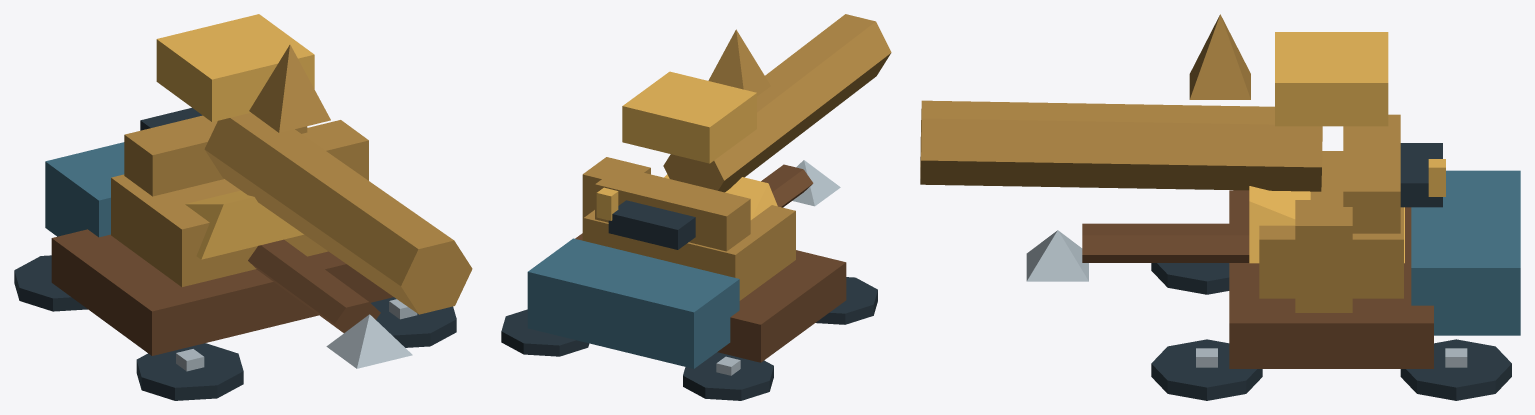
Rendered from heavy-artillery.obj.
The picture shows the model from 3 angles, left to right: view 1: azimuth 30°, elevation 25°; view 2: azimuth 150°, elevation 25°; view 3: azimuth 270°, elevation 25°; orthographic projection. The views are drawn at different scales.
Parts seen in each view (by area): view 1: siege; view 2: siege; view 3: siege.
Part boxes in pixels (x1,y1,x2,y2): siege: (14, 14, 472, 400); siege: (501, 14, 891, 400); siege: (920, 14, 1520, 400).
Bounding box in the file's own units: 1.9 × 1.78 × 3.13.
